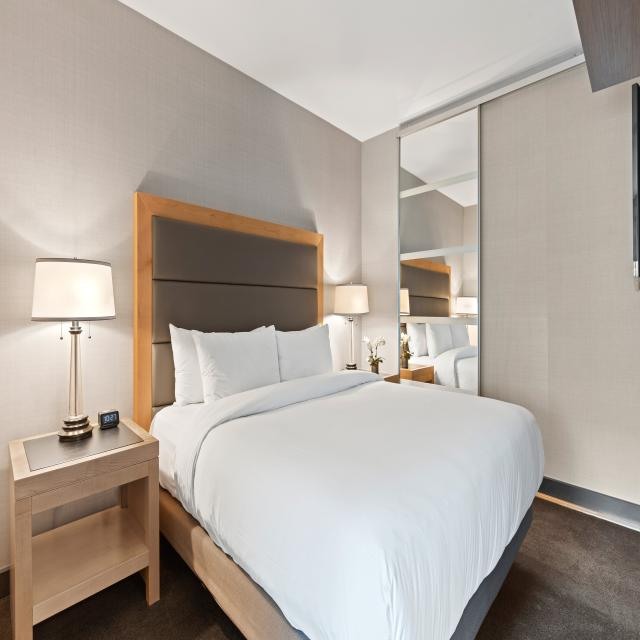floor: (475, 497, 640, 640), (33, 532, 248, 640), (0, 594, 13, 640)
